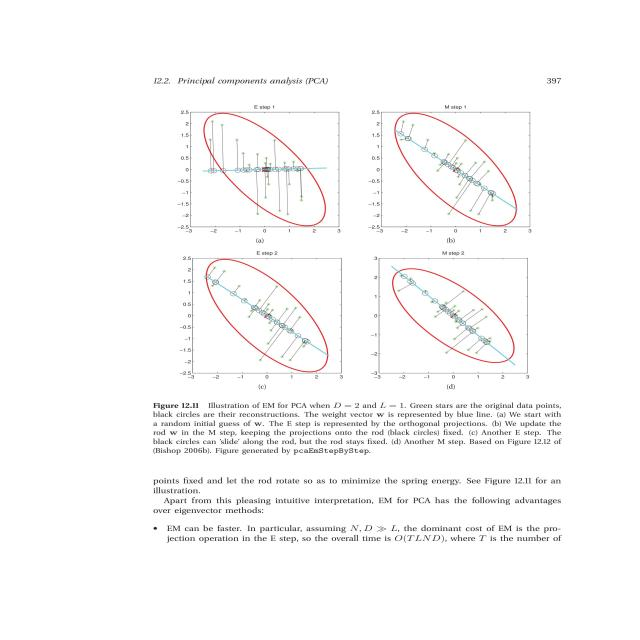diagram: (107, 96, 606, 459)
